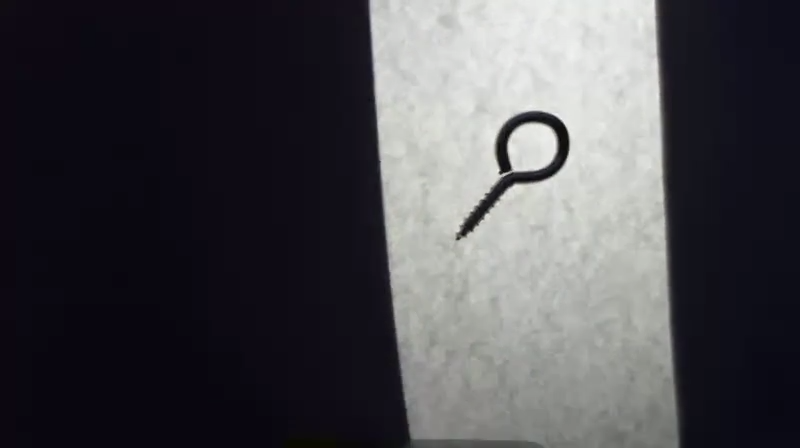O001: (447, 105, 575, 245)
